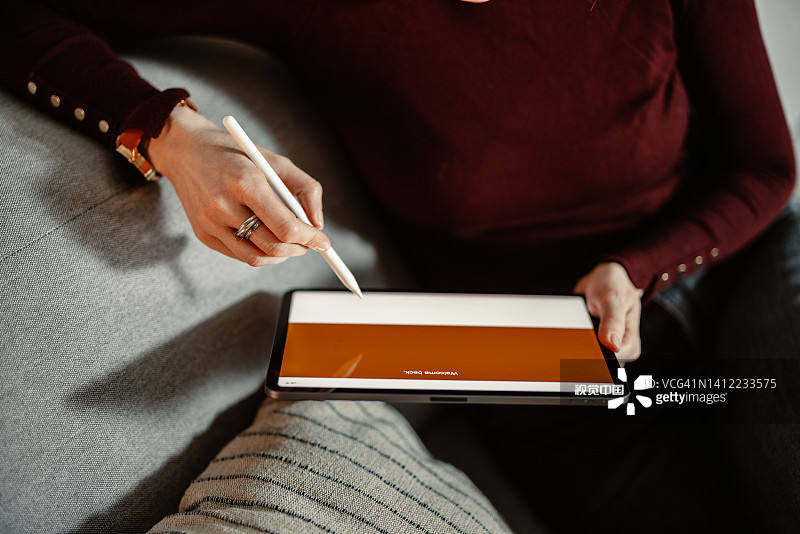no-phone: (133, 104, 350, 275), (556, 256, 651, 384)
